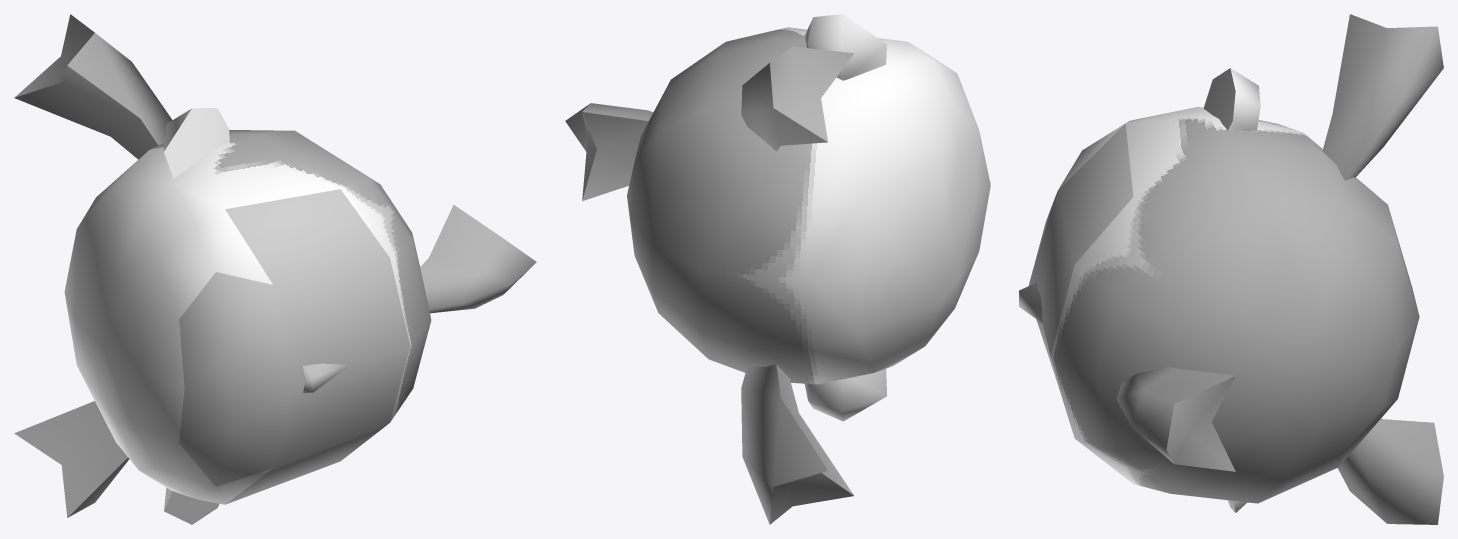
File: girl03a.dae
The picture shows the model from 3 angles, left to right: view 1: azimuth 30°, elevation 25°; view 2: azimuth 150°, elevation 25°; view 3: azimuth 270°, elevation 25°; orthographic projection. The views are drawn at different scales.
Visible parts, largest first — view 1: vsn_mesh_1_, vsn_mesh_0_, vsn_mesh_2_; view 2: vsn_mesh_1_; view 3: vsn_mesh_1_, vsn_mesh_0_.
Part boxes in pixels (<box>): vsn_mesh_1_: <box>14,14,536,524</box>; vsn_mesh_0_: <box>225,189,410,504</box>; vsn_mesh_2_: <box>179,272,295,486</box>; vsn_mesh_1_: <box>565,14,990,524</box>; vsn_mesh_1_: <box>1050,14,1443,524</box>; vsn_mesh_0_: <box>1019,123,1133,431</box>.
Bounding box in the file's own units: 27.67 × 30.29 × 23.4.
3 materials, 1 textured.
